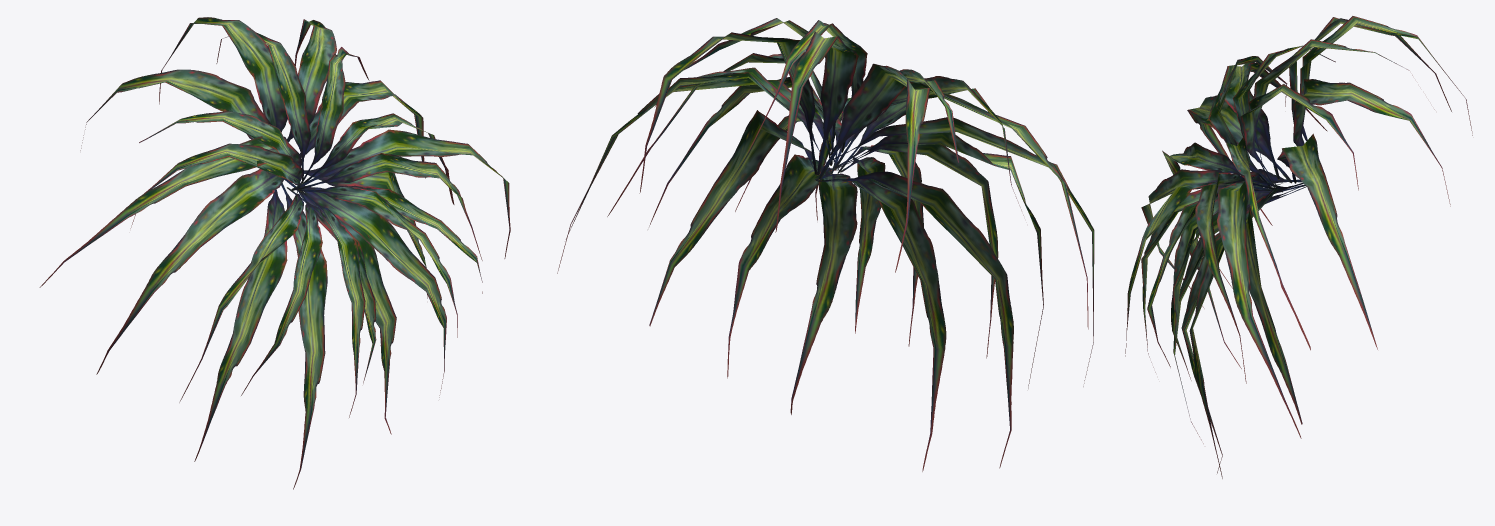
The model's file is S_Plant_Green035.FBX.
3 views of the same model, side by side, from view 1: azimuth 30°, elevation 25°; view 2: azimuth 150°, elevation 25°; view 3: azimuth 270°, elevation 25° (orthographic). The views are drawn at different scales.
Visible parts, largest first — view 1: S_Plant_Green035; view 2: S_Plant_Green035; view 3: S_Plant_Green035.
Part boxes in pixels (left/top/right/bottom): S_Plant_Green035: left=39, top=17, right=510, bottom=489; S_Plant_Green035: left=557, top=18, right=1094, bottom=471; S_Plant_Green035: left=1125, top=16, right=1472, bottom=478.
Bounding box in the file's own units: 619 × 389 × 559.
